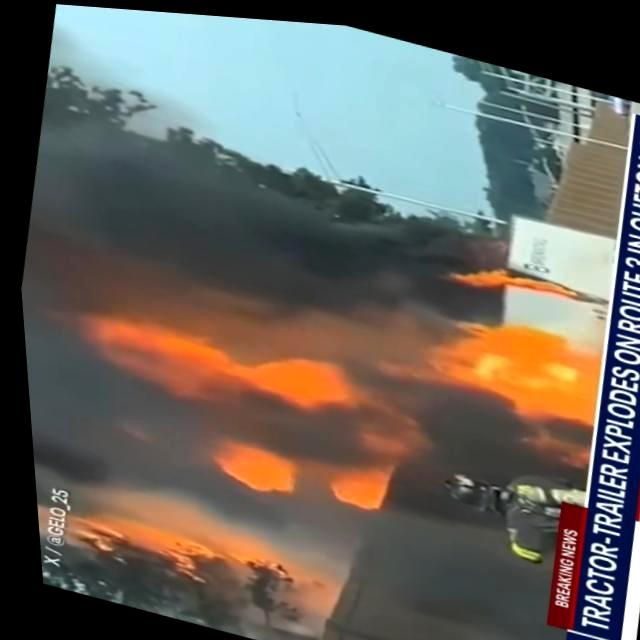fire: (87, 288, 365, 438), (59, 476, 297, 610), (394, 292, 594, 421), (205, 424, 297, 496), (310, 440, 390, 520)
